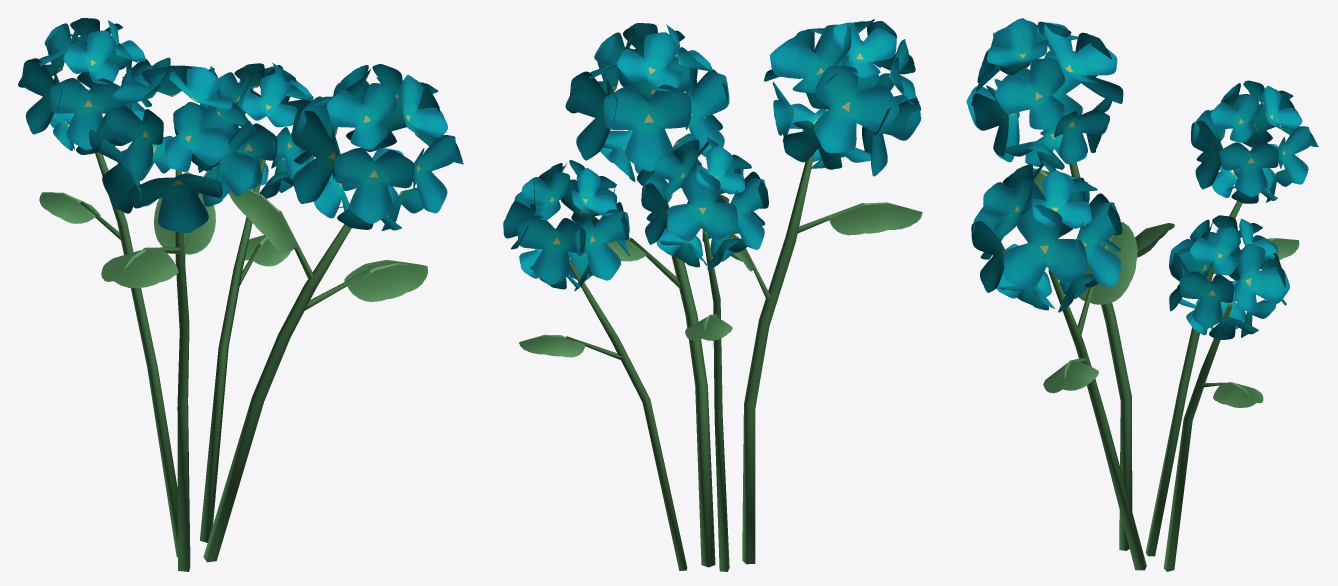
File: flower_1.glb
3 renders of one model, left to right at view 1: azimuth 30°, elevation 25°; view 2: azimuth 150°, elevation 25°; view 3: azimuth 270°, elevation 25°, orthographic. The views are drawn at different scales.
Visible parts, largest first — view 1: Flower_1_Clump; view 2: Flower_1_Clump; view 3: Flower_1_Clump.
Boxes of the visible parts, x1,y1,x2,y2 form: Flower_1_Clump: [18, 18, 463, 571]; Flower_1_Clump: [503, 19, 922, 571]; Flower_1_Clump: [966, 18, 1318, 571].
Bounding box in the file's own units: 0.4711 × 0.6713 × 0.4352.
1 material, 1 textured.
